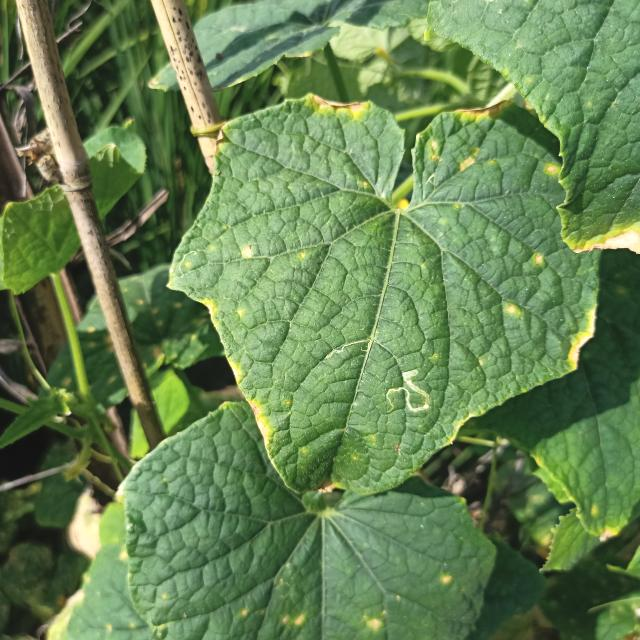disease_cucumber: (422, 132, 478, 171), (199, 298, 245, 328), (238, 242, 256, 262), (533, 251, 547, 269), (504, 303, 518, 317)
